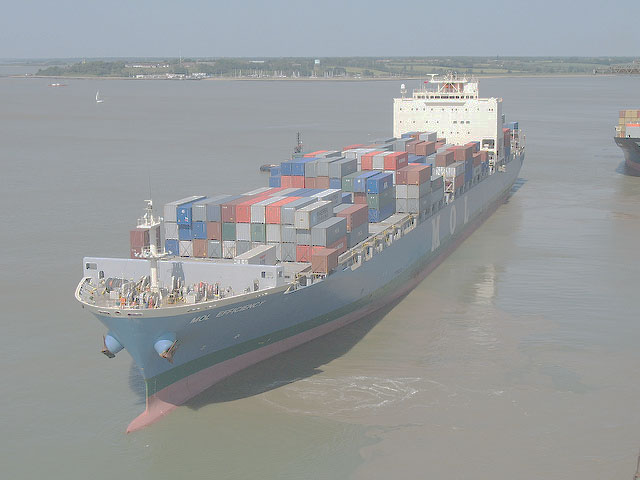container_ship: (73, 71, 529, 427)
